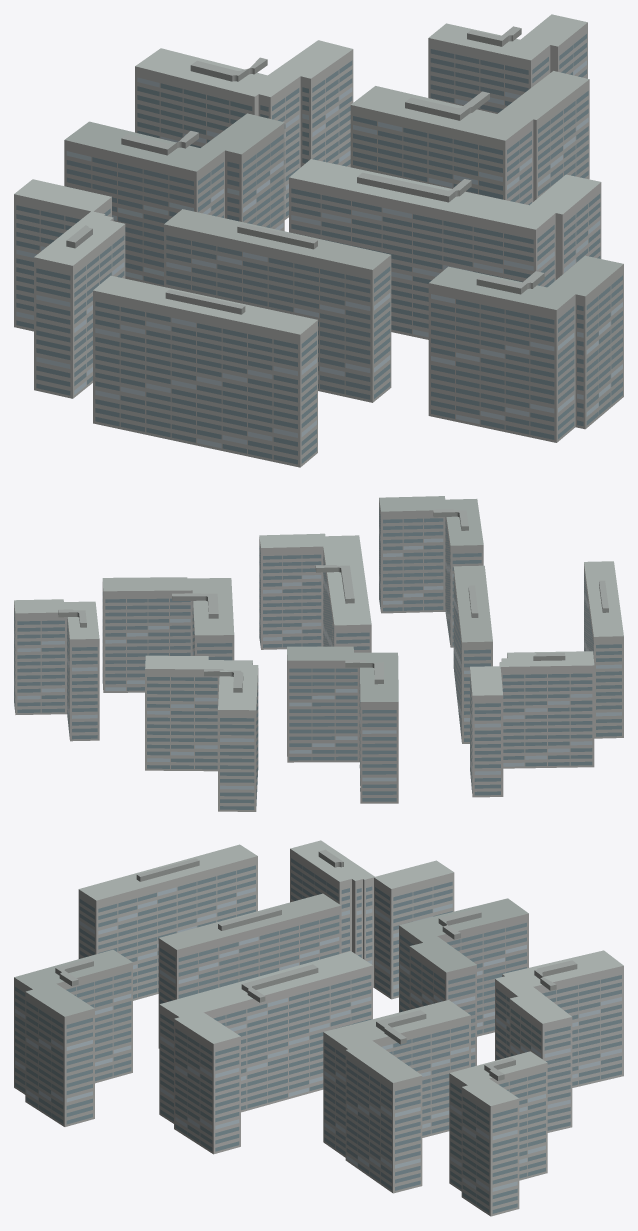
Rendered from apt-a12285703.glb.
3 views of the same model, one above another, from view 1: azimuth 30°, elevation 25°; view 2: azimuth 150°, elevation 25°; view 3: azimuth 270°, elevation 25° (orthographic). The views are drawn at different scales.
Parts seen in each view (by area): view 1: apt-a12285703; view 2: apt-a12285703; view 3: apt-a12285703.
Boxes of the visible parts, left/top/right/bottom form: apt-a12285703: left=14, top=14, right=623, bottom=467; apt-a12285703: left=14, top=496, right=623, bottom=811; apt-a12285703: left=14, top=840, right=623, bottom=1216.
Size of the model in its own units: 236 by 47.81 by 229.
